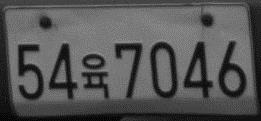0: (149, 40, 179, 98)
4: (181, 40, 214, 98), (47, 42, 79, 100)
5: (16, 42, 45, 100)
6: (216, 38, 249, 97)
7: (112, 39, 143, 98)
육: (80, 51, 110, 100)
